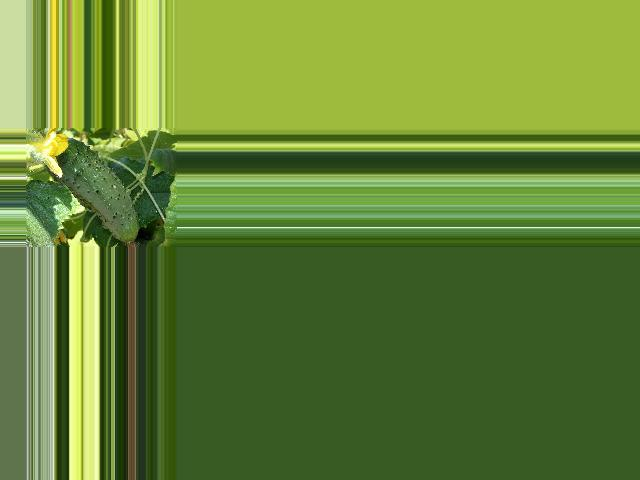cucumber: (45, 138, 139, 248)
